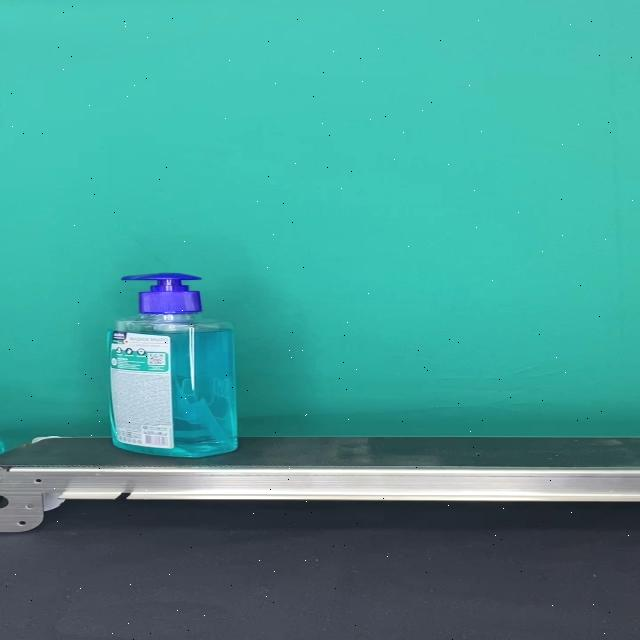Bottle: (107, 273, 238, 458)
Cap: (120, 273, 202, 315)
